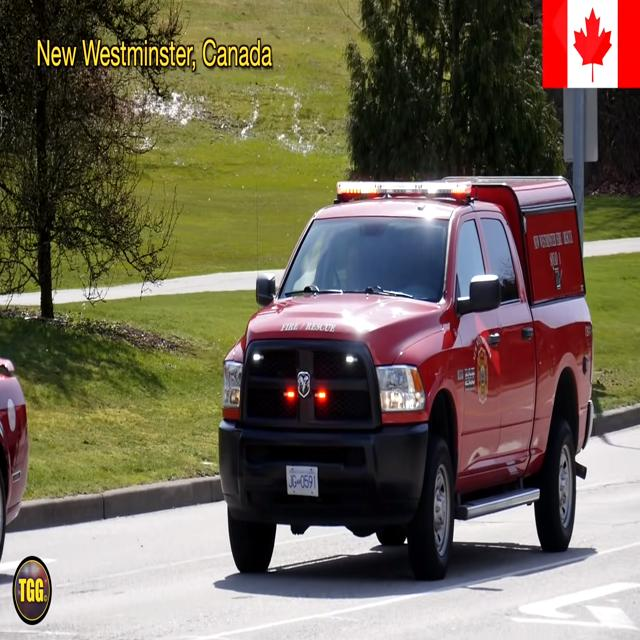emergency-vehicles: (199, 162, 594, 574)
